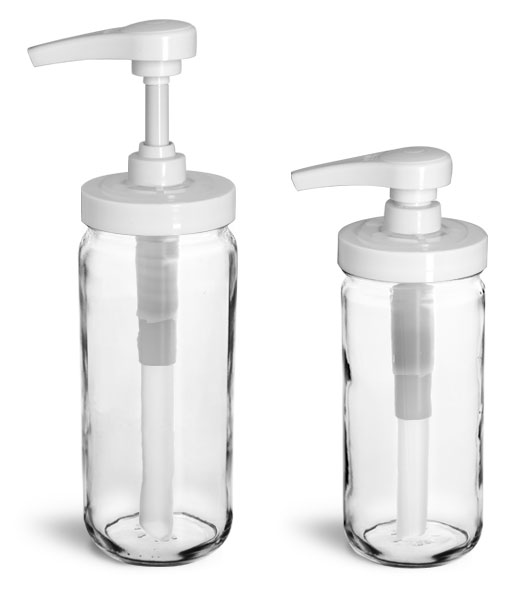glass_bottle: (22, 10, 253, 570), (283, 142, 498, 574)
